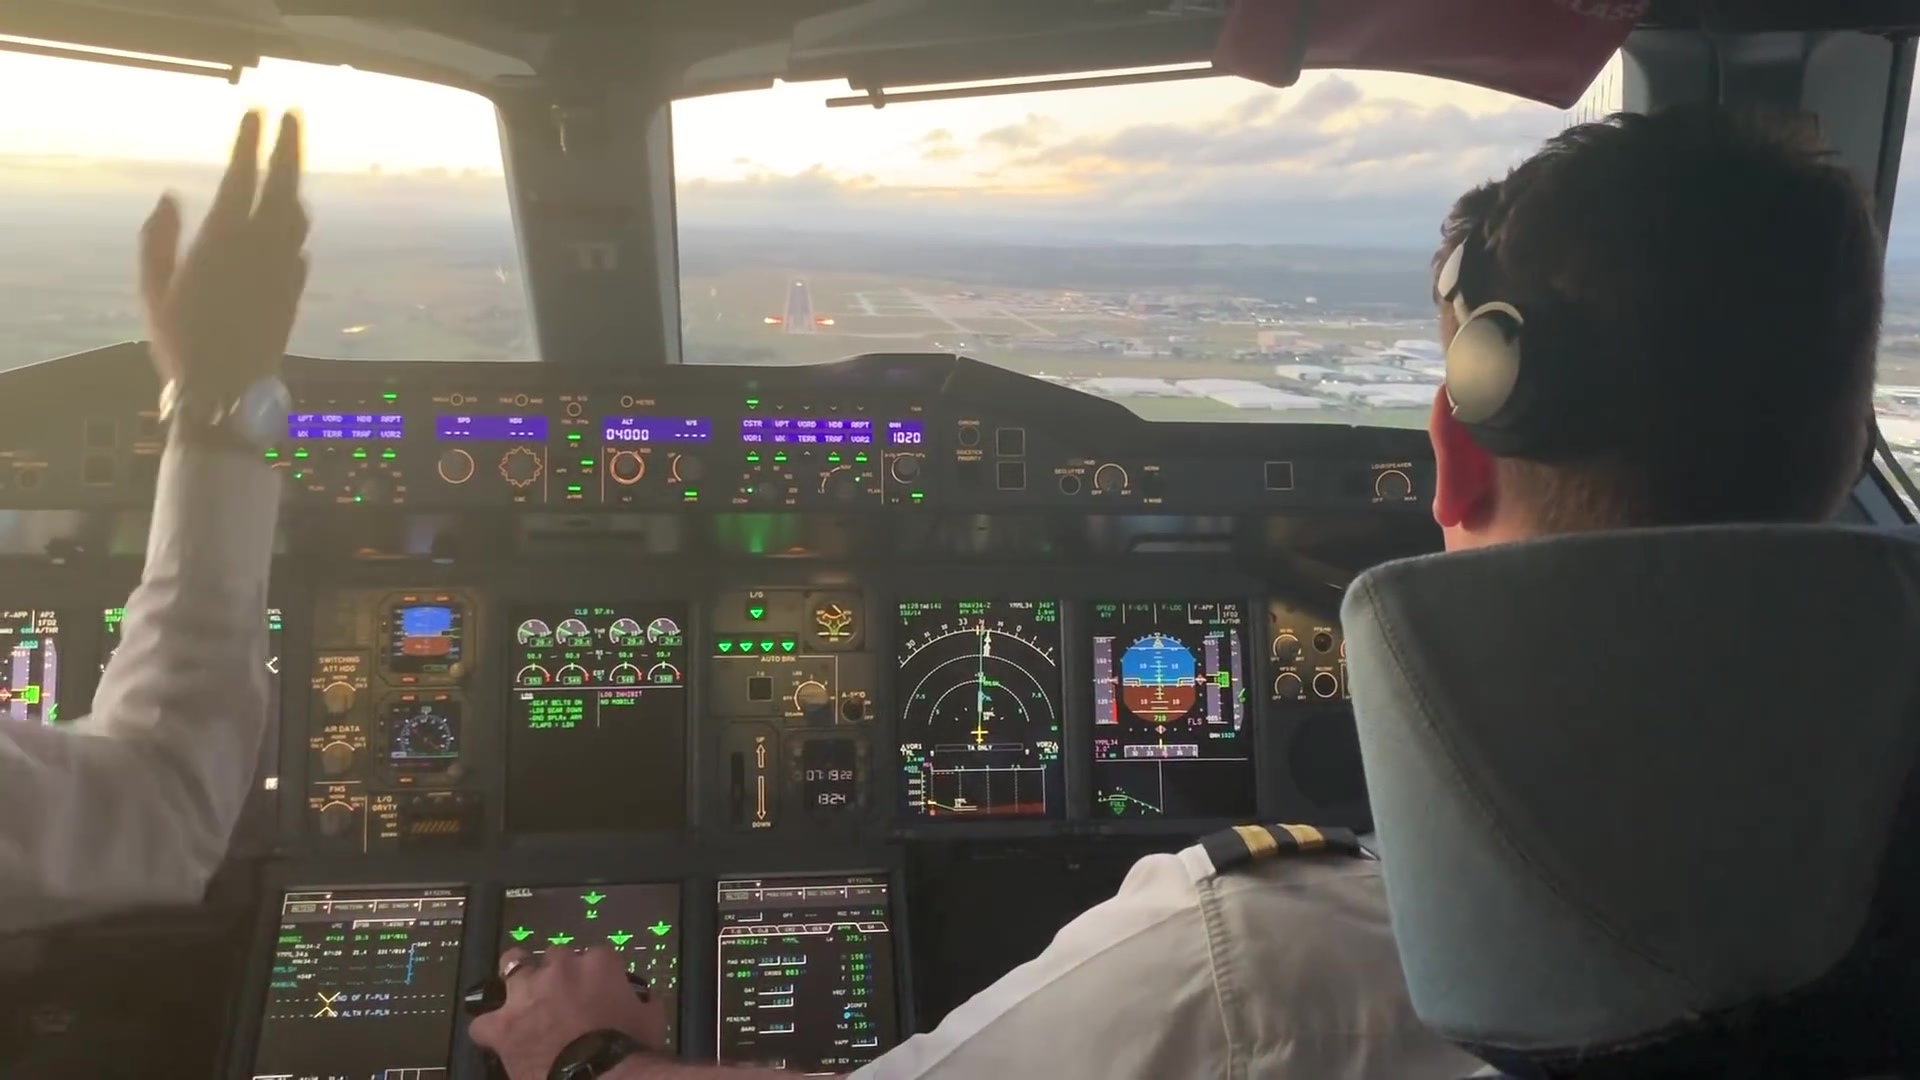runway: (779, 274, 819, 338)
